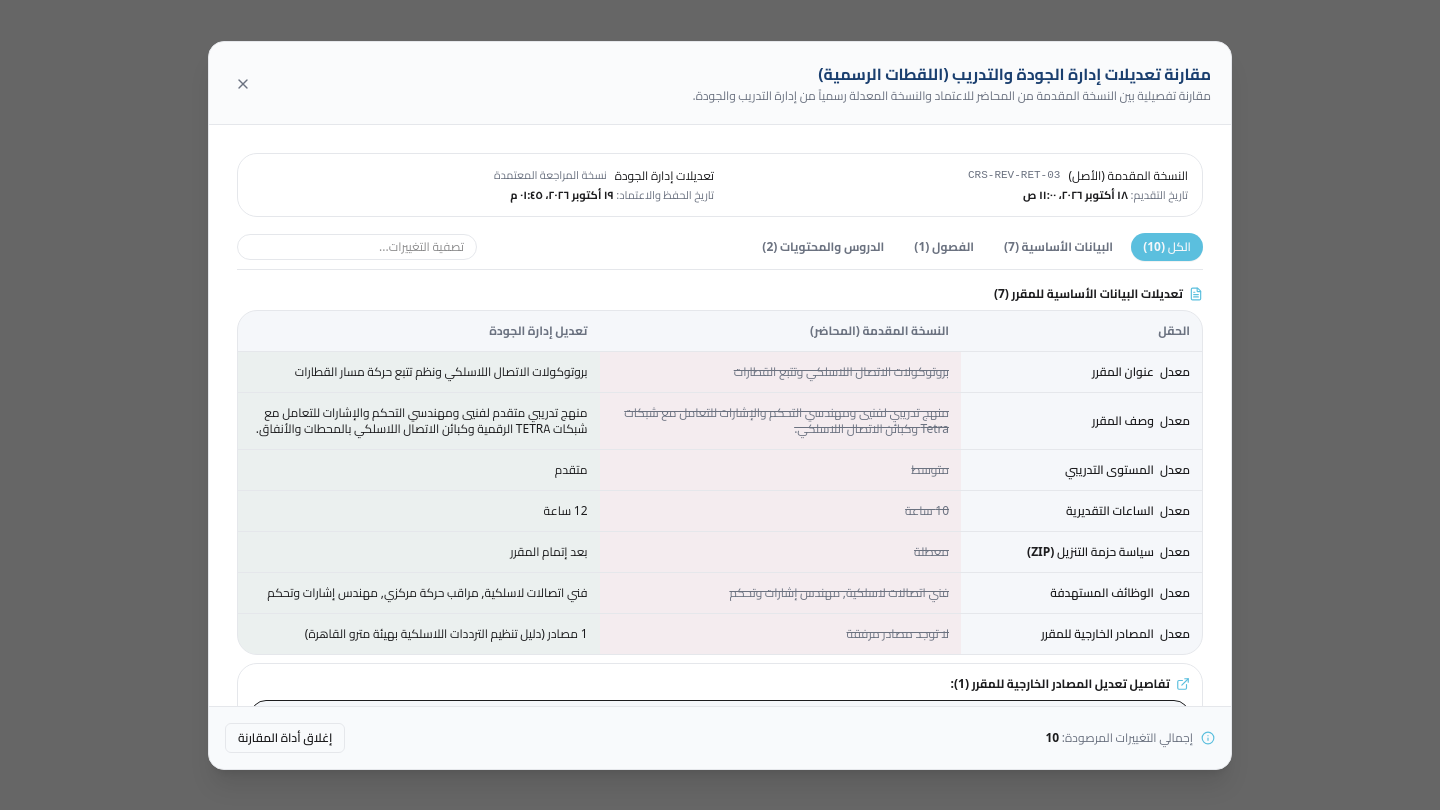
Test case: Increment 9 — Review Workflow Demo Data Seeding & End-to-End Consistency › 4. Historical Snapshots & External Resources Diff Inspection in Demo Data › returned course contains usable historical snapshots with external resources diff
Expected: the row with test id "metadata-diff-row-title" is shown, [238,352,1202,393]
Expected: the cell with test id "baseline-title" reads "بروتوكولات الاتصال اللاسلكي وتتبع القطارات", [734,360,949,383]
// Lesson-level external resource diff in lessons tab
Click the button with test id "diff-tab-lessons" at point(823, 247), box [750,233,896,261]
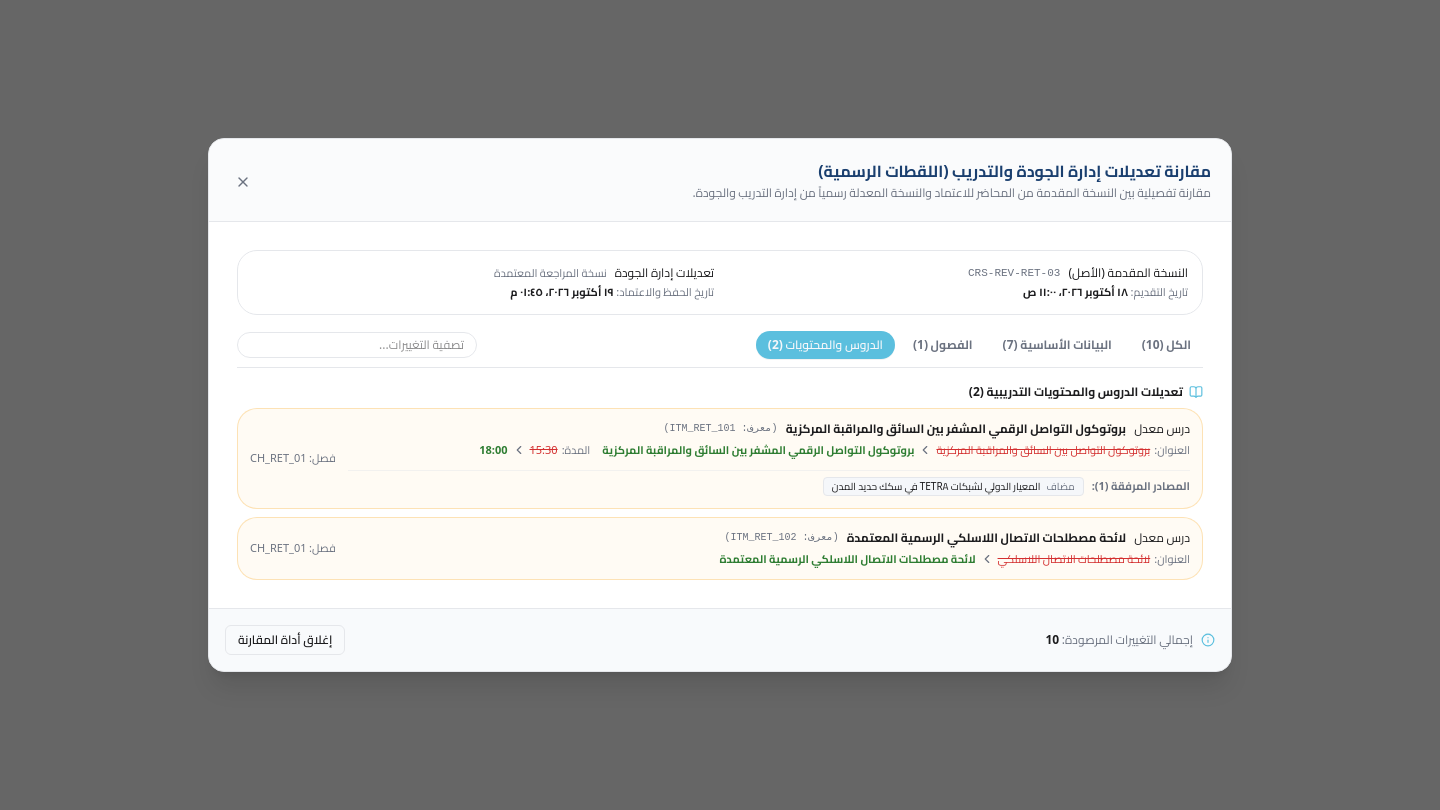
Now the element with test id "lesson-resource-diffs-ITM_RET_101" shows "المصادر المرفقة", box [1105,476,1190,496]
Now the element with test id "lesson-resource-diff-RES_RET_TETRA" shows "المعيار الدولي لشبكات TETRA في سكك حديد المدن", box [832,477,1040,496]
